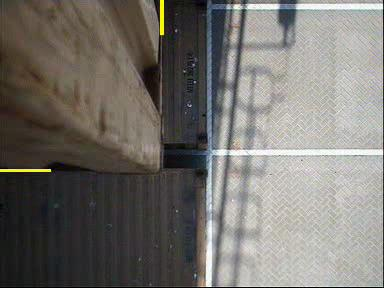groundmarker_2: (193, 33, 244, 101)
